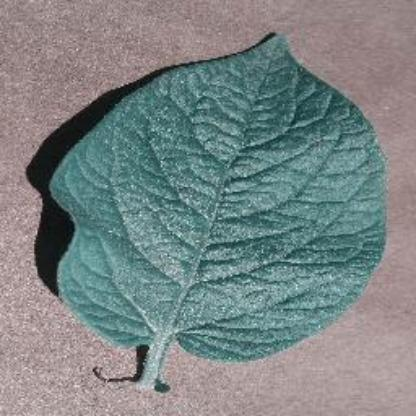Healthy-plant: (30, 18, 396, 392)
